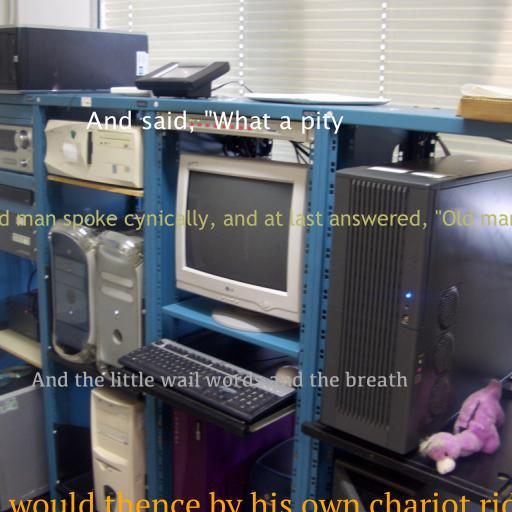Kefa: (30, 371, 408, 387)
Lucida Grande: (86, 110, 344, 134)
PT Serif: (0, 491, 512, 512)
Trebuchet MS: (0, 209, 512, 231)
